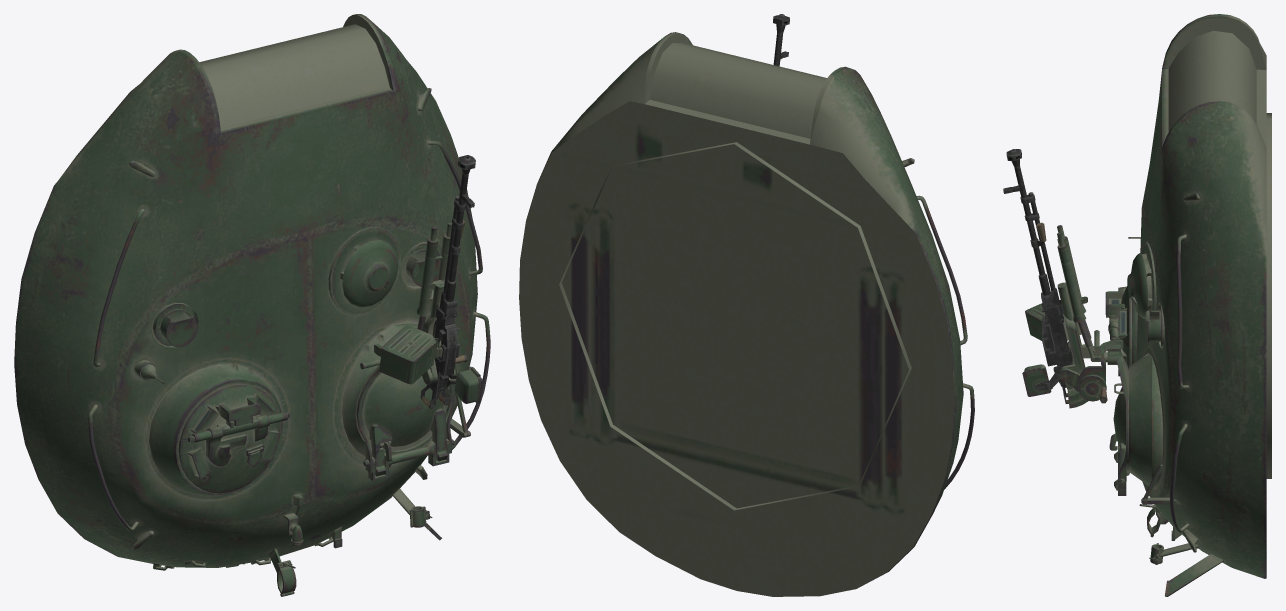
File: Turret_01.glb
3 renders of one model, left to right at view 1: azimuth 30°, elevation 25°; view 2: azimuth 150°, elevation 25°; view 3: azimuth 270°, elevation 25°, orthographic. The views are drawn at different scales.
Parts seen in each view (by area): view 1: set_0_group_0; view 2: set_0_group_0; view 3: set_0_group_0.
Boxes of the visible parts, x1=… form: set_0_group_0: x1=14, y1=14, x2=490, y2=596; set_0_group_0: x1=519, y1=14, x2=974, y2=596; set_0_group_0: x1=1003, y1=14, x2=1271, y2=596.
Size of the model in its own units: 2.8 by 3.2 by 1.55.
Materials: 1 (1 with a texture image).
